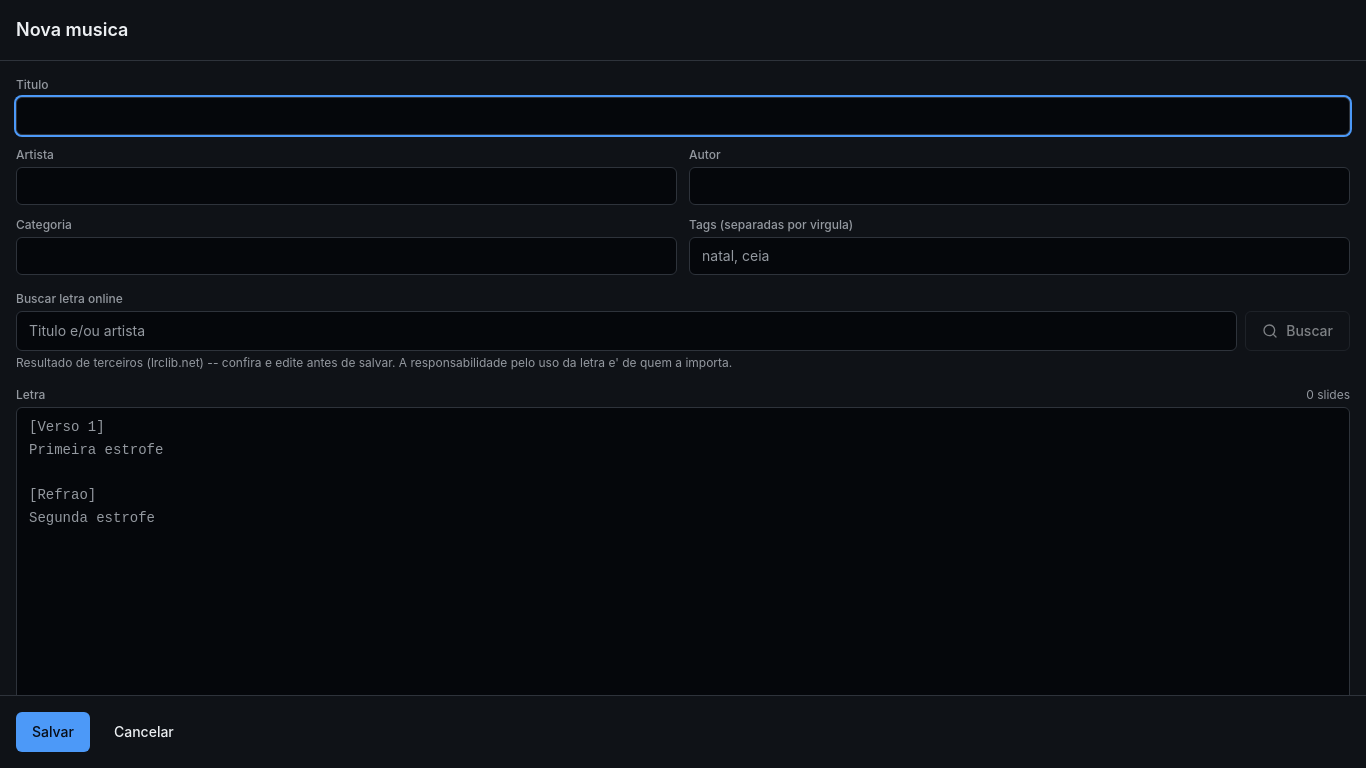
Test: cadastro › mostra a recusa do nucleo sem sair do formulario
This screenshot has width=1366, height=768.
Click the button "Salvar".
click(53, 732)  # box [16,712,90,752]
(page scrolled)
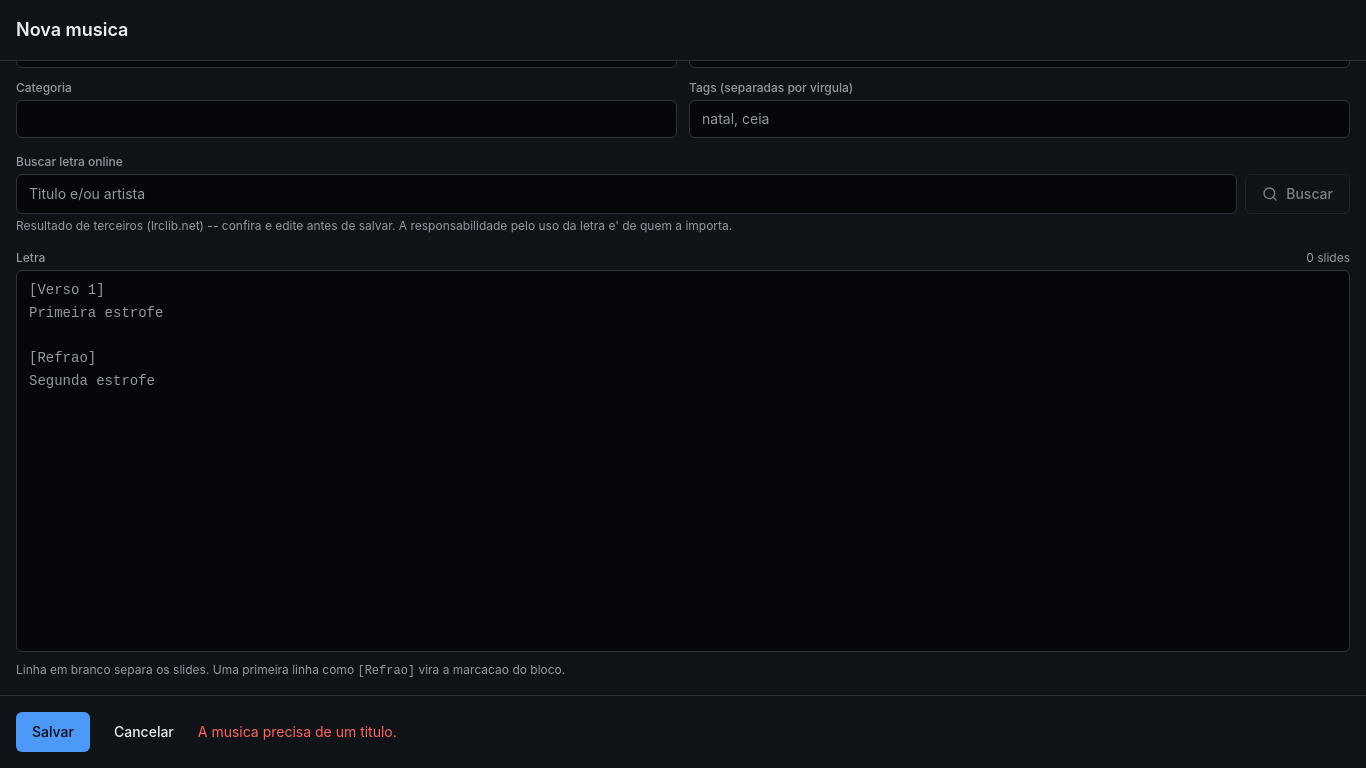
Expected: the text box labelled "Letra" is shown, [16,270,1350,652]
Now the message reads "A musica precisa de um titulo.", box [198,723,397,740]
